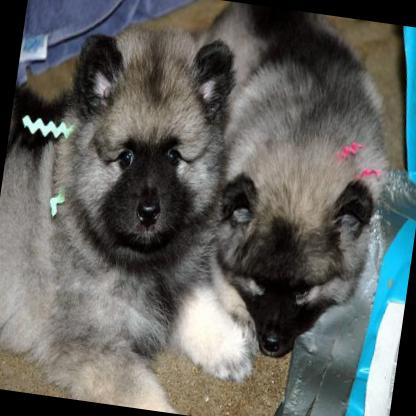keeshond: (0, 0, 302, 416), (154, 0, 410, 368)
